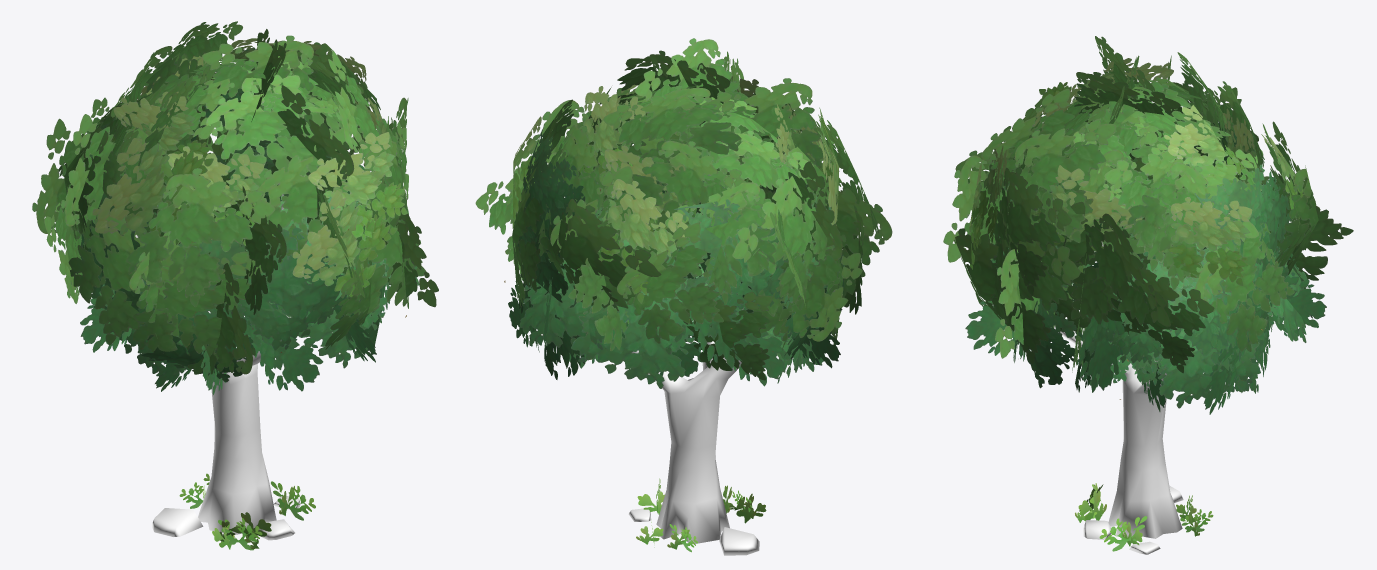
The model's file is P_plant_1309.fbx.
The picture shows the model from 3 angles, left to right: view 1: azimuth 30°, elevation 25°; view 2: azimuth 150°, elevation 25°; view 3: azimuth 270°, elevation 25°; orthographic projection. The views are drawn at different scales.
Parts seen in each view (by area): view 1: S_plant_1309_b, S_plant_1309_a; view 2: S_plant_1309_b, S_plant_1309_a; view 3: S_plant_1309_b, S_plant_1309_a.
Boxes of the visible parts, x1,y1,x2,y2 form: S_plant_1309_b: (32,21,438,550); S_plant_1309_a: (135,183,300,540); S_plant_1309_b: (475,38,892,552); S_plant_1309_a: (628,341,759,555); S_plant_1309_b: (943,36,1353,551); S_plant_1309_a: (1054,241,1183,554).
Size of the model in its own units: 3.9 by 4.96 by 3.92.
